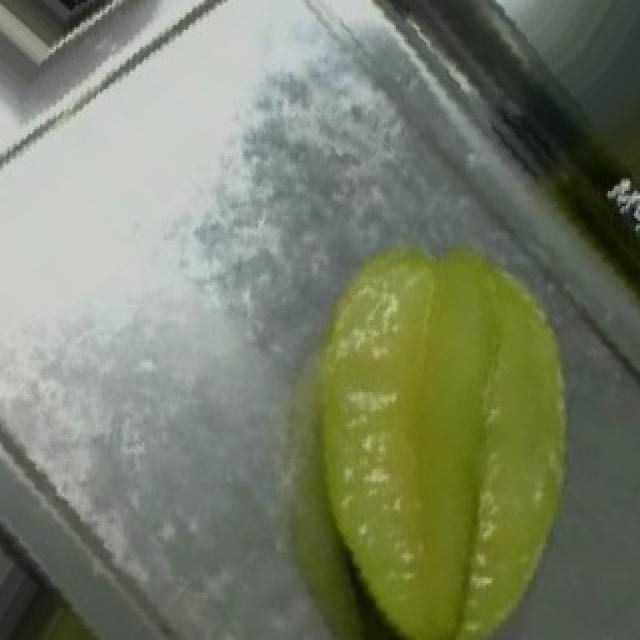fruit: (244, 198, 640, 632)
